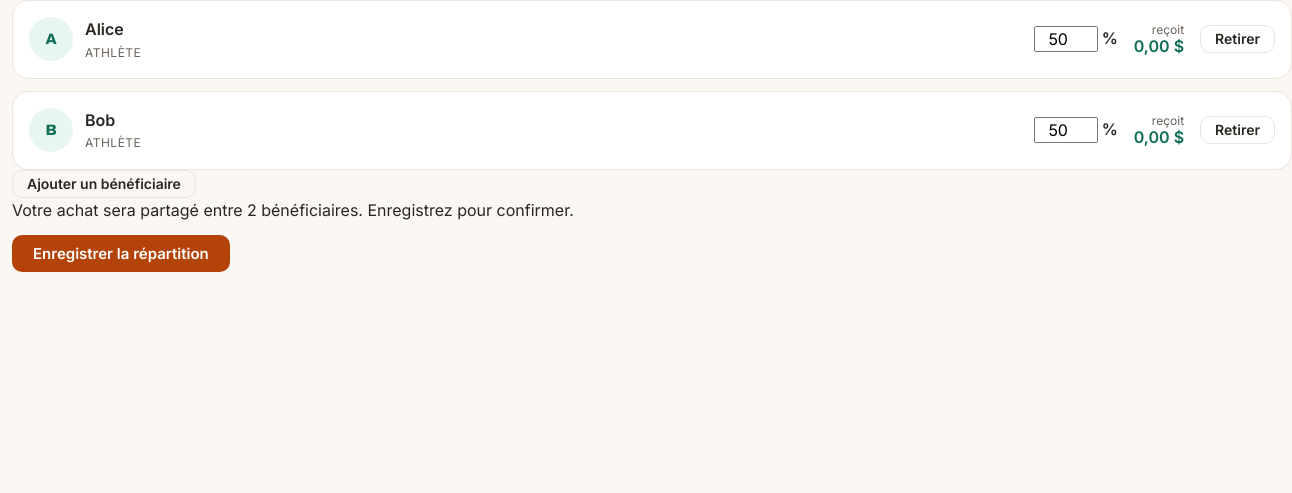
Test: BeneficiarySplit › ajouter un 3e bénéficiaire répartit en bps exacts 3334/3333/3333 (affiché 33/33/33 %)
What coordinates should you click on to do the following:
click the button "Ajouter un bénéficiaire"
I would click on:
 (104, 184)
Its box is [12,170,196,198].
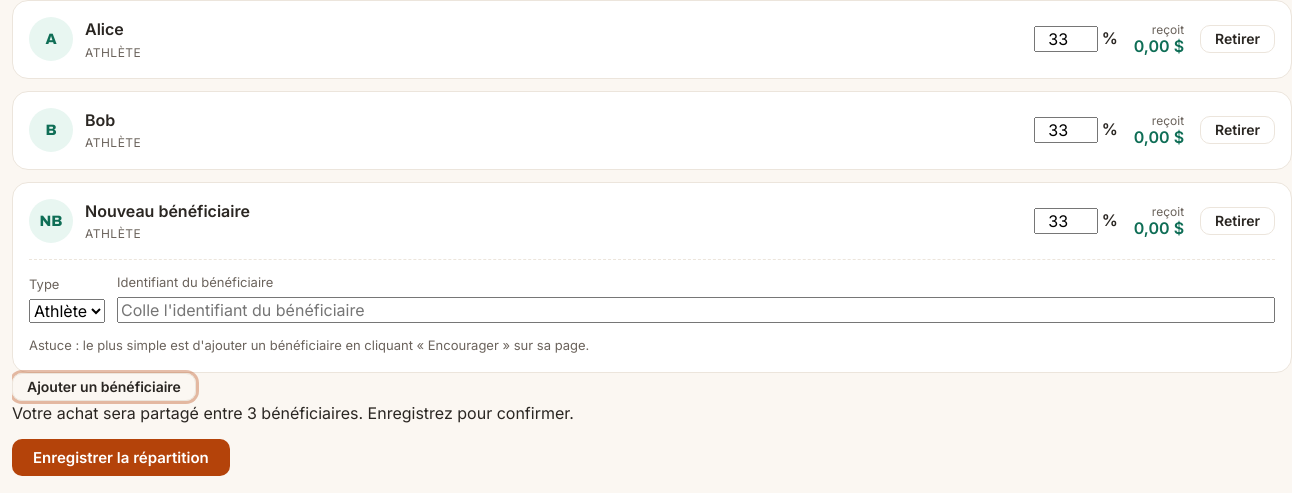
Expected: the number field named "Part (%) pour Alice" holds "33", [1034,26,1098,52]
Expected: the number field named "Part (%) pour Bob" holds "33", [1034,117,1098,143]
Expected: the number field named "Part (%) pour Nouveau bénéficiaire" holds "33", [1034,208,1098,234]
